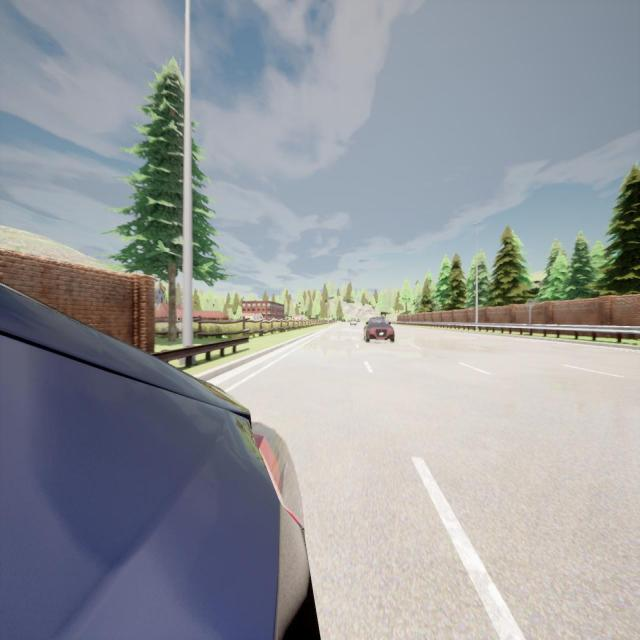Traffic_Signs: (526, 298, 536, 309)
Vehicle: (0, 284, 318, 638), (364, 317, 395, 343), (350, 318, 357, 327)
